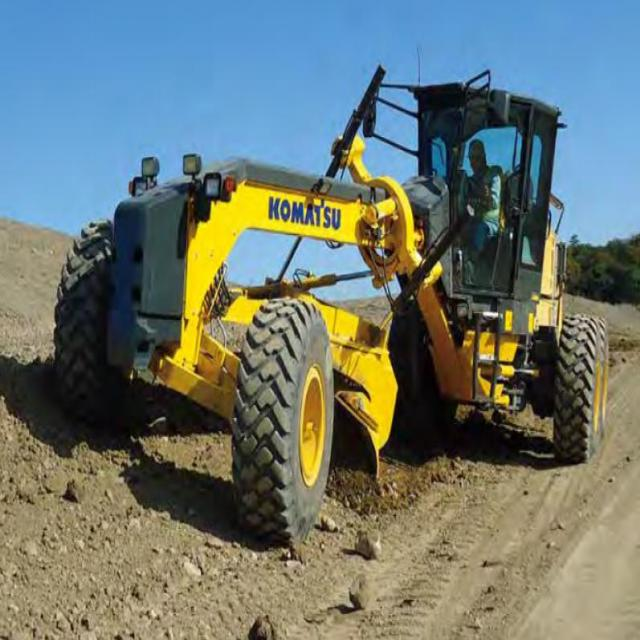Grader: (49, 31, 620, 572)
